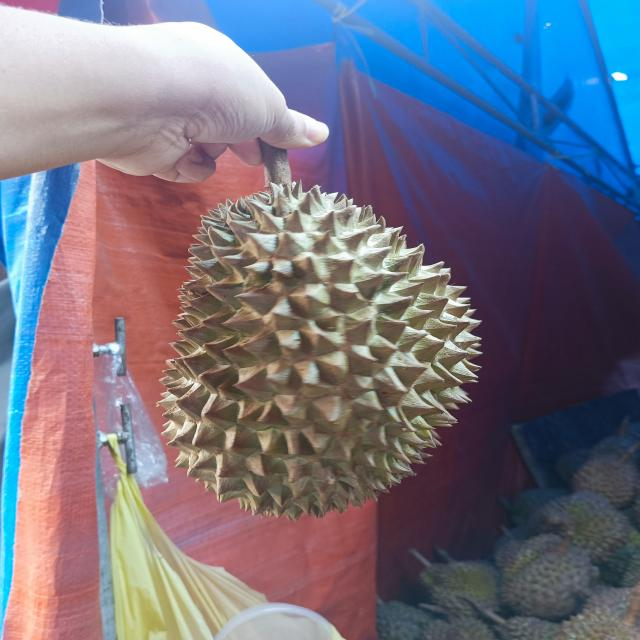mature: (154, 178, 480, 520)
